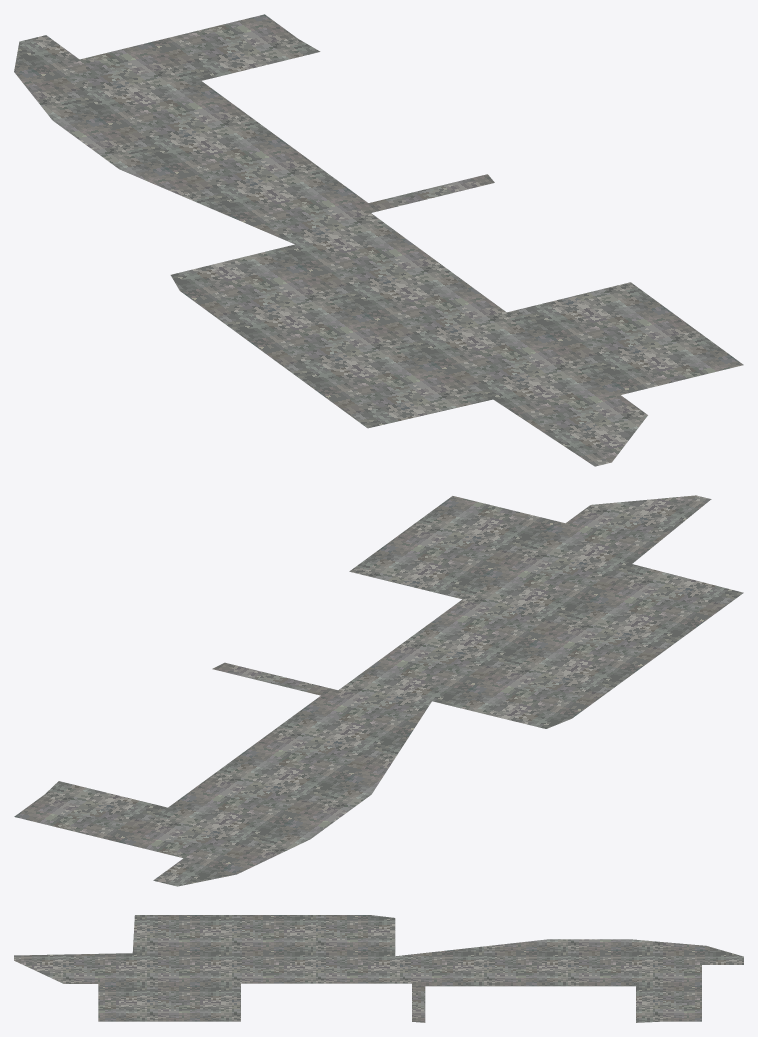
Rendered from lod02sw_bankalley.obj.
The picture shows the model from 3 angles, top to bottom: view 1: azimuth 30°, elevation 25°; view 2: azimuth 150°, elevation 25°; view 3: azimuth 270°, elevation 25°; orthographic projection. The views are drawn at different scales.
Parts seen in each view (by area): view 1: LOD02sw_bankalley; view 2: LOD02sw_bankalley; view 3: LOD02sw_bankalley.
Boxes of the visible parts, x1,y1,x2,y2 form: LOD02sw_bankalley: [14, 14, 743, 466]; LOD02sw_bankalley: [14, 495, 743, 886]; LOD02sw_bankalley: [14, 915, 743, 1022].
Bounding box in the file's own units: 30.3 × 0.00497 × 86.72.
1 material, 1 textured.
